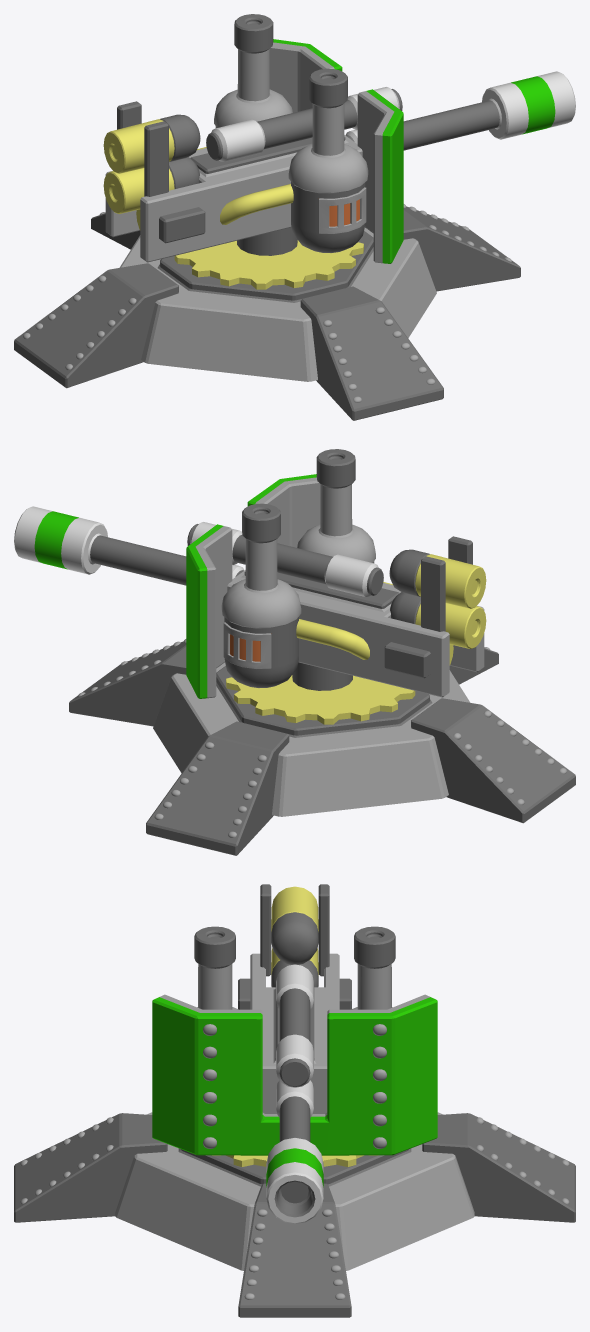
Rendered from Weapun5.fbx.
The picture shows the model from 3 angles, top to bottom: view 1: azimuth 30°, elevation 25°; view 2: azimuth 150°, elevation 25°; view 3: azimuth 270°, elevation 25°; orthographic projection. The views are drawn at different scales.
Visible parts, largest first — view 1: Circle, Cube.001, Cube.003, Cylinder.002, Cube, Plane, Cylinder.007, Circle.001, Cube.002, Cylinder.003, Cylinder.006, Cylinder (+7 smaller); view 2: Circle, Cube.004, Cube.003, Cylinder.002, Cube, Plane, Cylinder.007, Circle.001, Cube.002, Cylinder.003, Cylinder.006, Cylinder (+7 smaller); view 3: Plane, Circle, Cube.002, Cube.001, Cube.004, Cylinder.002, Cylinder.007, Cube, Cylinder.003, Cylinder.006, Cube.006, Cube.005 (+4 smaller).
Boxes of the visible parts, left/top/right/bottom form: Circle: left=119, top=227, right=436, bottom=381; Cube.001: left=300, top=286, right=443, bottom=420; Cube.003: left=14, top=263, right=178, bottom=388; Cylinder.002: left=214, top=14, right=368, bottom=193; Cube: left=105, top=135, right=362, bottom=262; Plane: left=269, top=39, right=403, bottom=263; Cylinder.007: left=403, top=71, right=575, bottom=150; Circle.001: left=174, top=240, right=363, bottom=289; Cube.002: left=365, top=204, right=520, bottom=291; Cylinder.003: left=206, top=87, right=402, bottom=161; Cylinder.006: left=103, top=114, right=200, bottom=173; Cylinder: left=216, top=127, right=365, bottom=252; Circle: left=153, top=662, right=470, bottom=816; Cube.004: left=146, top=721, right=289, bottom=855; Cube.003: left=411, top=698, right=575, bottom=823; Cylinder.002: left=221, top=449, right=375, bottom=628; Cube: left=227, top=570, right=484, bottom=697; Plane: left=186, top=474, right=320, bottom=698; Cylinder.007: left=14, top=506, right=186, bottom=585; Circle.001: left=226, top=675, right=415, bottom=724; Cube.002: left=69, top=639, right=224, bottom=726; Cylinder.003: left=187, top=522, right=383, bottom=596; Cylinder.006: left=389, top=549, right=486, bottom=608; Cylinder: left=224, top=562, right=373, bottom=687; Plane: left=152, top=994, right=437, bottom=1155; Circle: left=115, top=1112, right=474, bottom=1270; Cube.002: left=238, top=1183, right=351, bottom=1317; Cube.001: left=14, top=1113, right=167, bottom=1222; Cube.004: left=422, top=1113, right=575, bottom=1222; Cylinder.002: left=194, top=926, right=395, bottom=1009; Cylinder.007: left=266, top=1096, right=323, bottom=1223; Cube: left=250, top=953, right=339, bottom=1113; Cylinder.003: left=276, top=964, right=313, bottom=1087; Cylinder.006: left=271, top=886, right=318, bottom=964; Cube.006: left=260, top=884, right=329, bottom=976; Cube.005: left=203, top=1024, right=386, bottom=1148.
Bounding box in the file's own units: 314 × 149 × 273.
